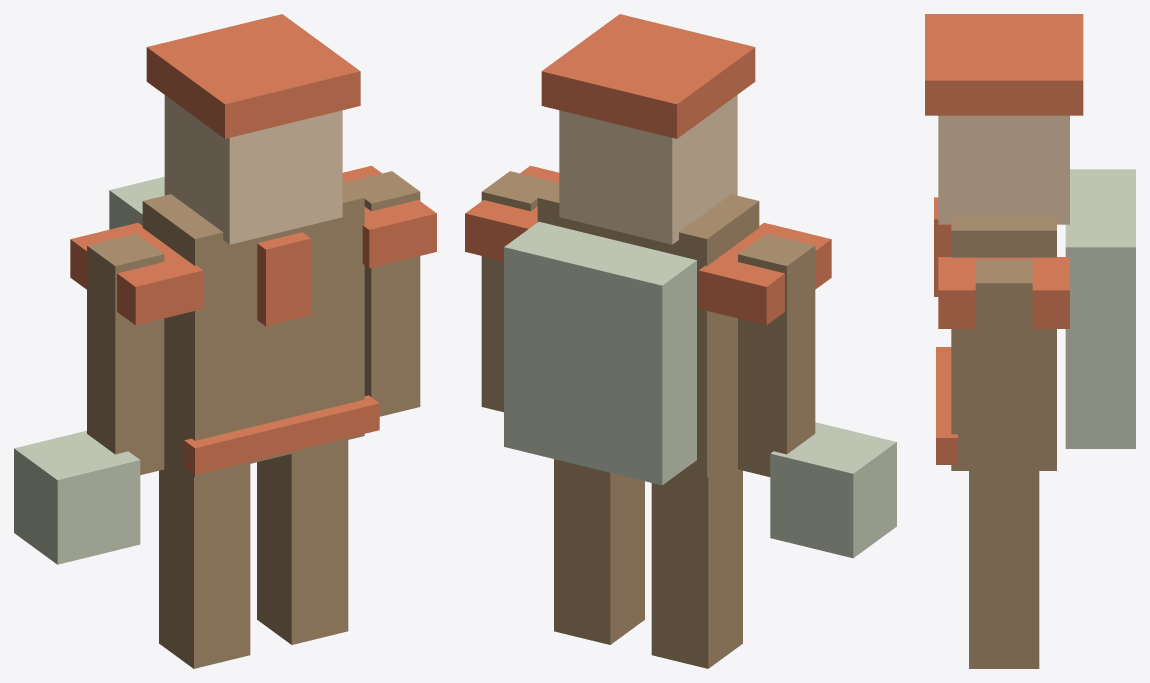
File: 13_yara_voxmere_ranger_from_couplet.glb
3 renders of one model, left to right at view 1: azimuth 30°, elevation 25°; view 2: azimuth 150°, elevation 25°; view 3: azimuth 270°, elevation 25°, orthographic.
Parts seen in each view (by area): view 1: Yara Voxmere, Ranger from Couplet; view 2: Yara Voxmere, Ranger from Couplet; view 3: Yara Voxmere, Ranger from Couplet.
Boxes of the visible parts, x1,y1,x2,y2 form: Yara Voxmere, Ranger from Couplet: [14, 14, 436, 668]; Yara Voxmere, Ranger from Couplet: [465, 14, 896, 668]; Yara Voxmere, Ranger from Couplet: [925, 14, 1135, 668].
Bounding box in the file's own units: 0.9978 × 1.47 × 0.4814.
